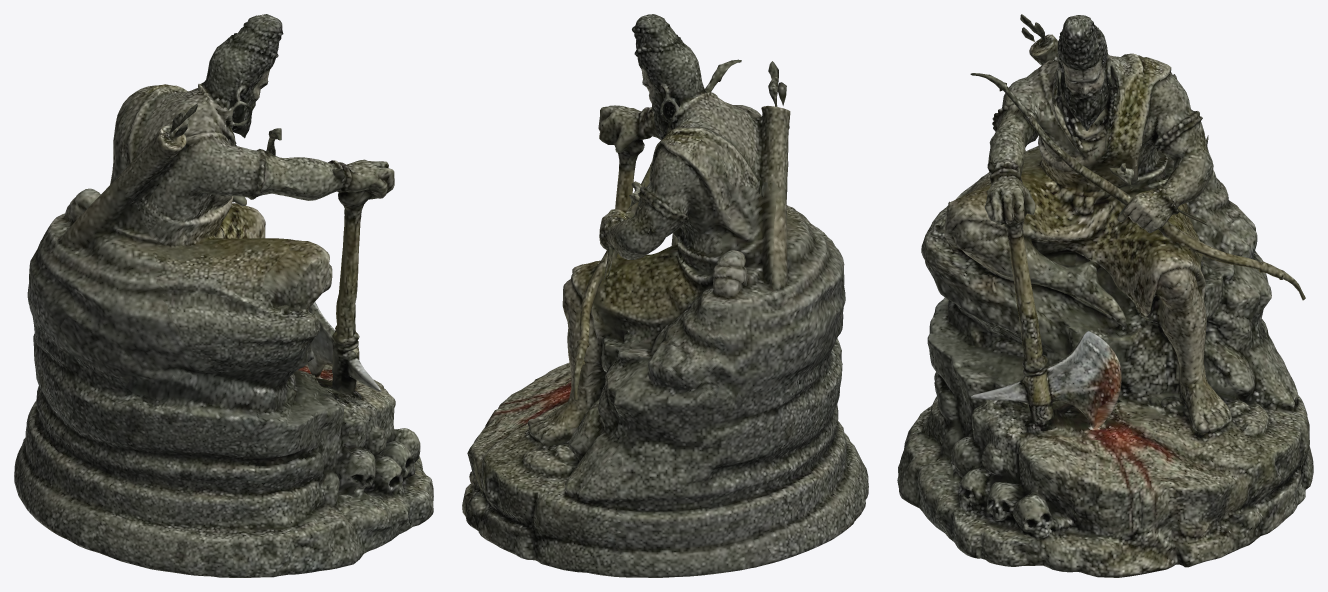
The model's file is tripo_convert_f68134e0-6d7e-402f-8c8b-1d157e437df0.fbx.
3 renders of one model, left to right at view 1: azimuth 30°, elevation 25°; view 2: azimuth 150°, elevation 25°; view 3: azimuth 270°, elevation 25°, orthographic. The views are drawn at different scales.
Parts seen in each view (by area): view 1: tripo_node_f68134e0; view 2: tripo_node_f68134e0; view 3: tripo_node_f68134e0.
Part boxes in pixels (bbox=[...]): tripo_node_f68134e0: bbox=[14, 14, 433, 577]; tripo_node_f68134e0: bbox=[462, 14, 868, 577]; tripo_node_f68134e0: bbox=[897, 14, 1313, 577].
Size of the model in its own units: 0.7764 by 0.9984 by 0.7768.
Materials: 1 (1 with a texture image).
